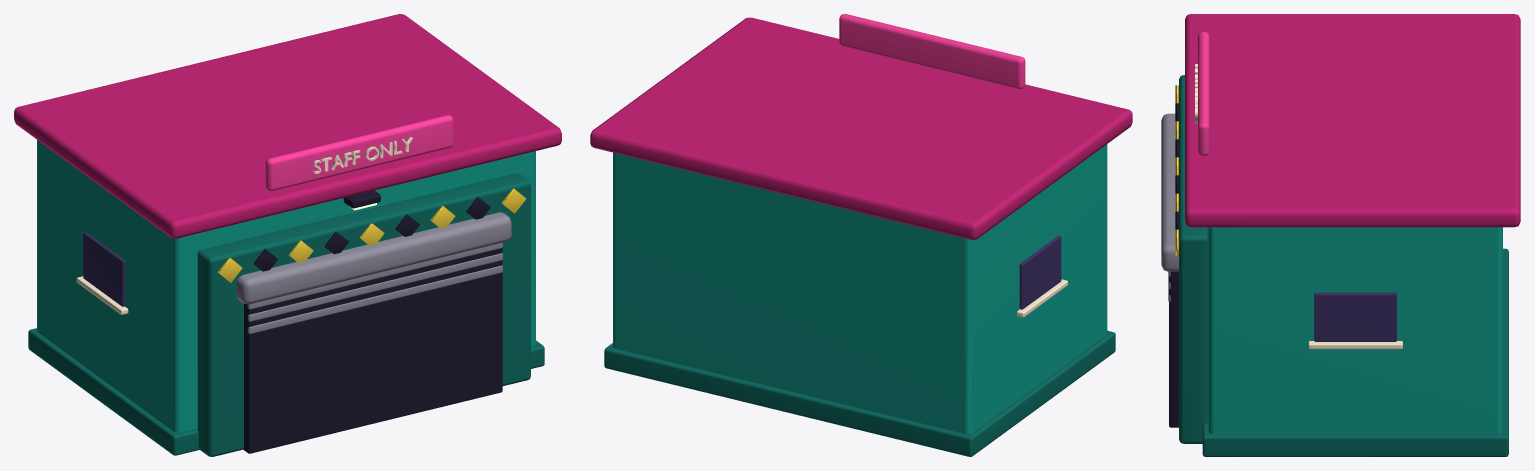
File: service_door.glb
3 views of the same model, side by side, from view 1: azimuth 30°, elevation 25°; view 2: azimuth 150°, elevation 25°; view 3: azimuth 270°, elevation 25° (orthographic). The views are drawn at different scales.
Parts seen in each view (by area): view 1: ServiceDoor; view 2: ServiceDoor; view 3: ServiceDoor.
Part boxes in pixels (x1,y1,x2,y2): ServiceDoor: [14, 14, 561, 456]; ServiceDoor: [590, 14, 1132, 456]; ServiceDoor: [1161, 14, 1520, 456].
Bounding box in the file's own units: 8 × 5.36 × 6.1.
